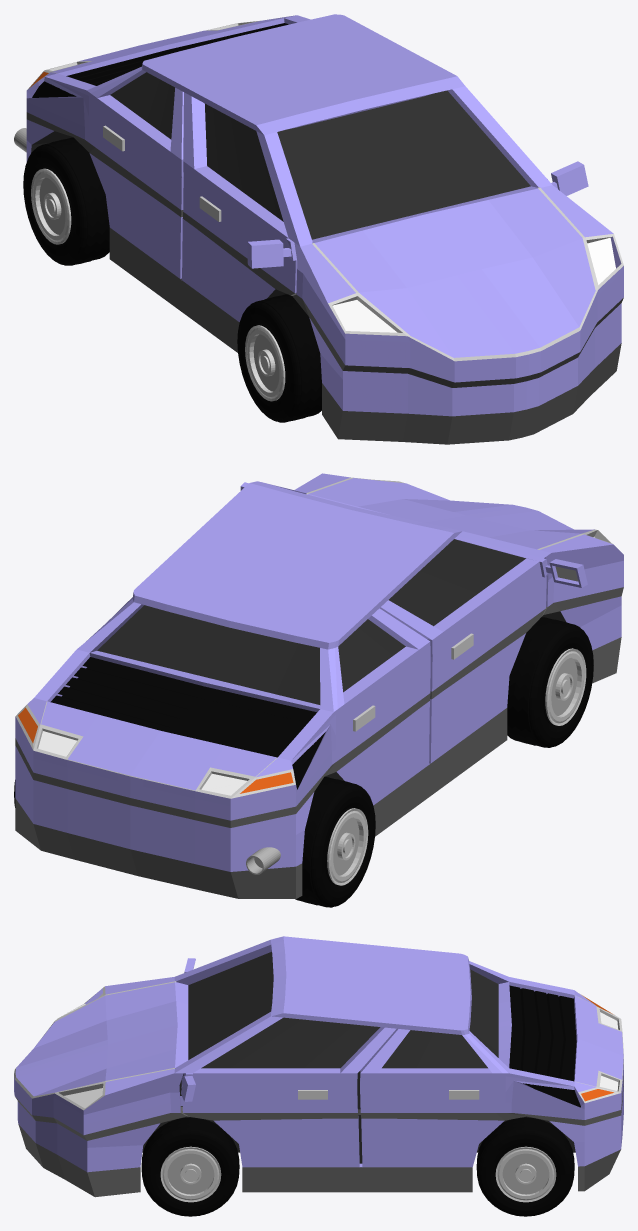
Rendered from CR-CAR-22.fbx.
3 renders of one model, top to bottom at view 1: azimuth 30°, elevation 25°; view 2: azimuth 150°, elevation 25°; view 3: azimuth 270°, elevation 25°, orthographic. The views are drawn at different scales.
Parts seen in each view (by area): view 1: BODY, WHEEL.001, WHEEL.004; view 2: BODY, WHEEL.001, WHEEL.004, SHACMAN; view 3: BODY, WHEEL.003, WHEEL.002.
Part boxes in pixels (x1=…): BODY: x1=26, y1=14, x2=623, y2=444; WHEEL.001: x1=237, y1=294, x2=321, y2=422; WHEEL.004: x1=23, y1=137, x2=109, y2=265; BODY: x1=15, y1=473, x2=623, y2=898; WHEEL.001: x1=507, y1=617, x2=593, y2=747; WHEEL.004: x1=295, y1=777, x2=375, y2=907; SHACMAN: x1=246, y1=847, x2=280, y2=874; BODY: x1=14, y1=936, x2=623, y2=1197; WHEEL.003: x1=141, y1=1117, x2=239, y2=1216; WHEEL.002: x1=476, y1=1117, x2=574, y2=1216.
Bounding box in the file's own units: 121 × 82.49 × 243.
